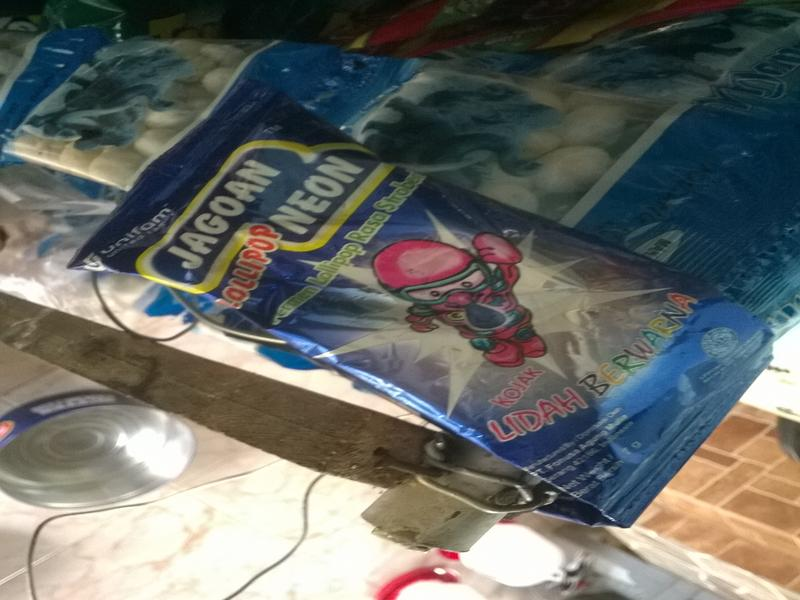jagoan neon: (61, 79, 774, 528)
